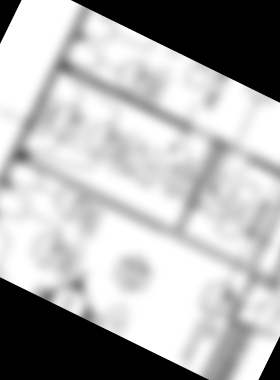door: (210, 142, 255, 188), (237, 275, 280, 321), (175, 127, 217, 171), (0, 165, 3, 210)
